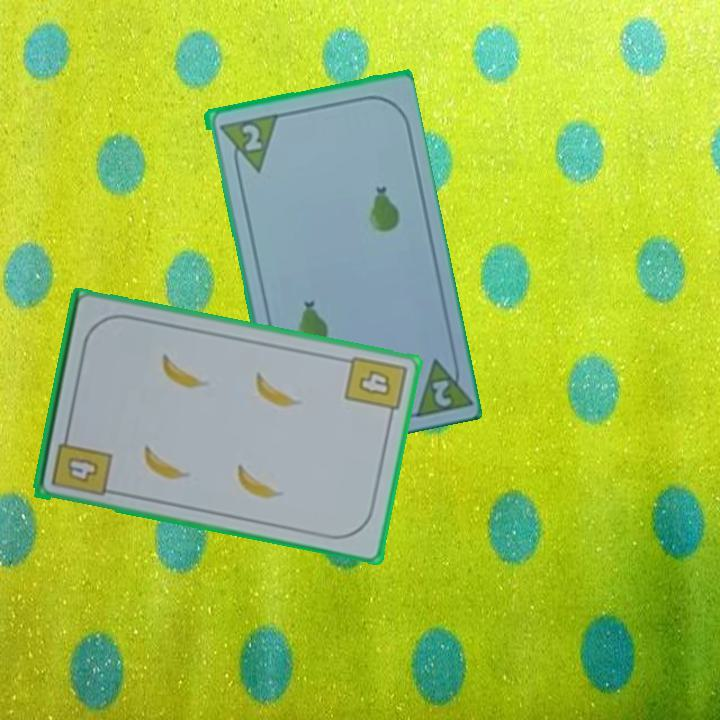2p: (407, 348, 471, 419), (215, 110, 279, 178)
4b: (341, 352, 409, 424), (48, 427, 115, 499)
